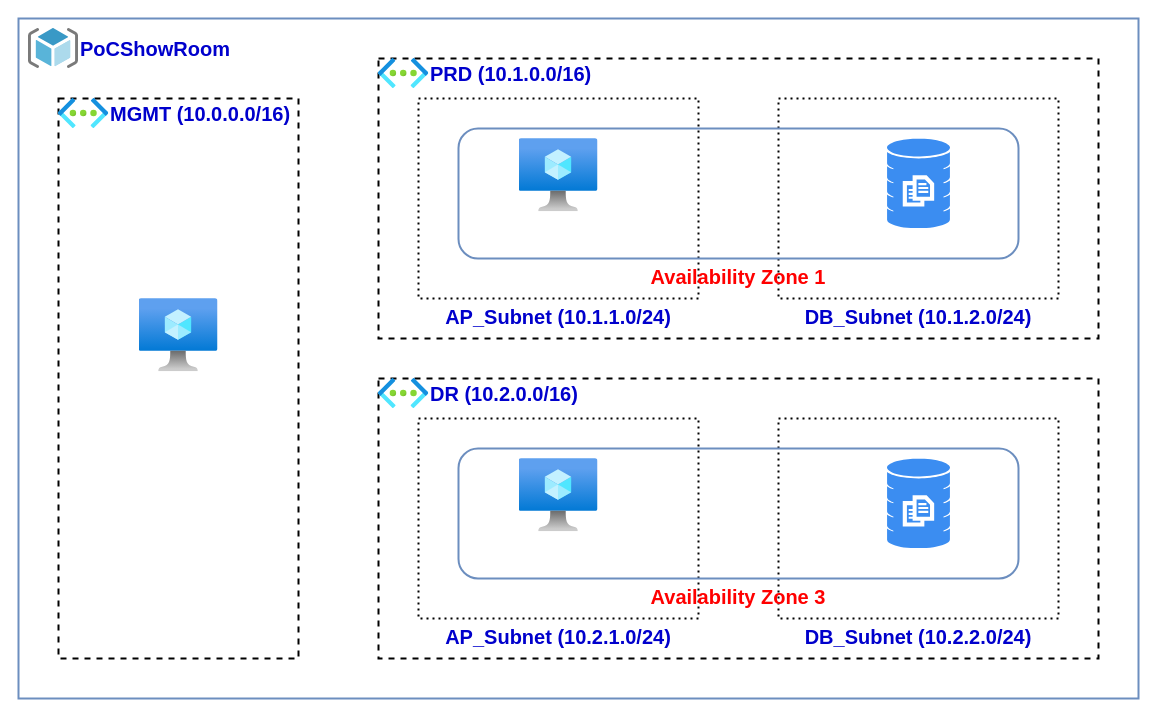
This 1156x716 diagram has some shape labels left out. Each missing label, with the centre of its shape:
"AP #1" goes at pixel 558 174.
"AP #2" goes at pixel 558 494.
"DB #1" goes at pixel 918 183.
"DB #2" goes at pixel 918 503.
"JumpBox" goes at pixel 178 334.
